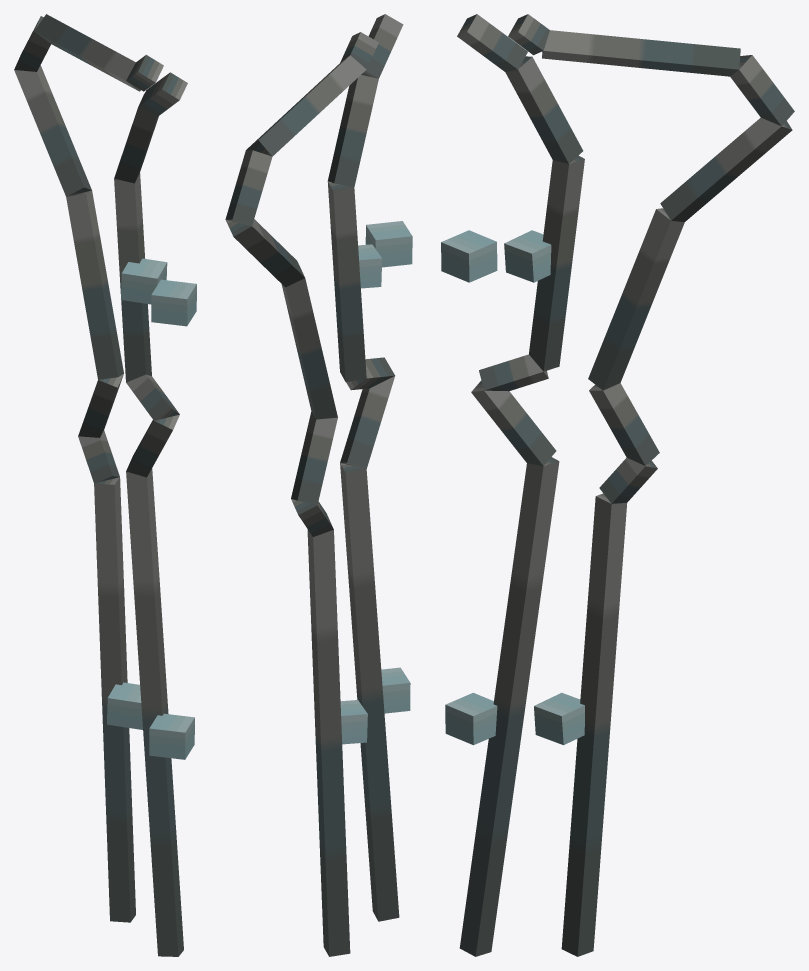
The model's file is pz_native_electrical_209.obj.
The picture shows the model from 3 angles, left to right: view 1: azimuth 30°, elevation 25°; view 2: azimuth 150°, elevation 25°; view 3: azimuth 270°, elevation 25°; orthographic projection. The views are drawn at different scales.
Visible parts, largest first — view 1: conduit, conduit_end; view 2: conduit, conduit_end; view 3: conduit, conduit_end.
Part boxes in pixels (x1,y1,x2,y2): conduit: (14,14,196,956); conduit_end: (34,16,196,732); conduit: (225,14,412,956); conduit_end: (226,71,412,715); conduit: (441,14,794,956); conduit_end: (441,14,792,716).
Bounding box in the file's own units: 0.042 × 0.7764 × 0.2654.
Materials: 1 (1 with a texture image).
